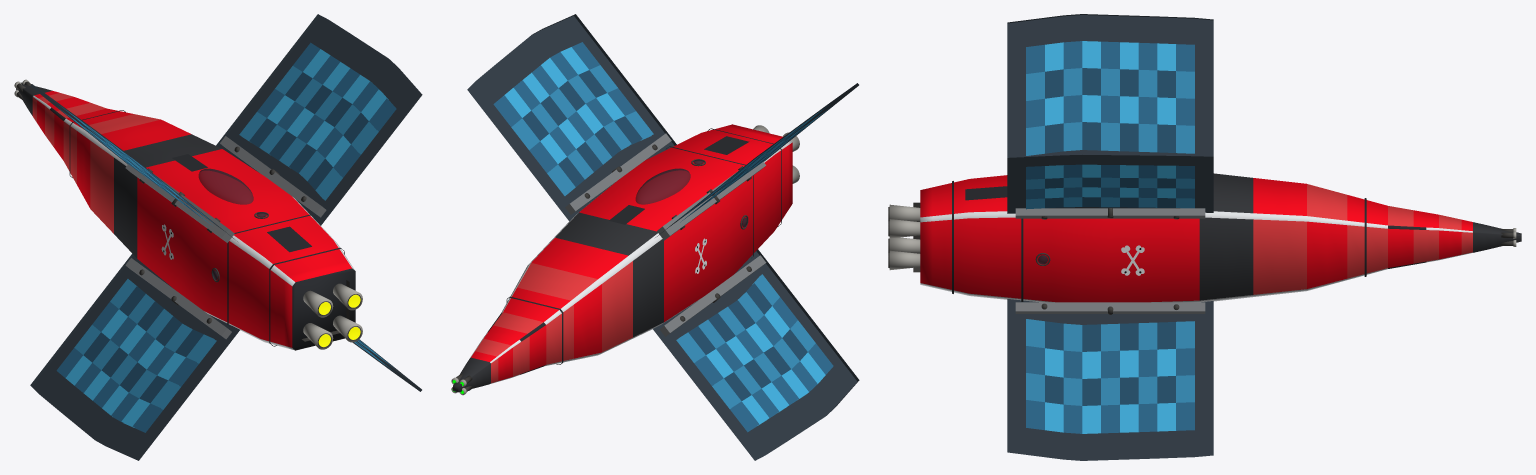
File: Ship_Crosspanel_18.glb
The picture shows the model from 3 angles, left to right: view 1: azimuth 30°, elevation 25°; view 2: azimuth 150°, elevation 25°; view 3: azimuth 270°, elevation 25°; orthographic projection.
Visible parts, largest first — view 1: Fuselage_SquareBody, SolarPanelWing_LowerLeftRidge_RectangularPhotovoltaicGrid, SolarPanelWing_TopRightRidge_RectangularPhotovoltaicGrid, Nose_SquareTaperedForwardSection, SolarPanelWing_TopLeftRidge_RectangularPhotovoltaicGrid, Canopy_DorsalLowSquareBubble, SolarPanelWing_LowerLeftRidge_RootHingeClamp, SolarPanelWing_TopRightRidge_RootHingeClamp, SolarPanelWing_TopLeftRidge_RootHingeClamp, HullAccessPanel_TopAft, EngineEmitter, SolarPanelWing_LowerRightRidge_RectangularPhotovoltaicGrid; view 2: Fuselage_SquareBody, SolarPanelWing_LowerLeftRidge_RectangularPhotovoltaicGrid, SolarPanelWing_TopRightRidge_RectangularPhotovoltaicGrid, Nose_SquareTaperedForwardSection, SolarPanelWing_TopLeftRidge_RectangularPhotovoltaicGrid, Canopy_DorsalLowSquareBubble, SolarPanelWing_LowerLeftRidge_RootHingeClamp, SolarPanelWing_TopRightRidge_RootHingeClamp, SolarPanelWing_TopLeftRidge_RootHingeClamp, HullAccessPanel_TopAft; view 3: Fuselage_SquareBody, SolarPanelWing_LowerRightRidge_RectangularPhotovoltaicGrid, SolarPanelWing_TopLeftRidge_RectangularPhotovoltaicGrid, SolarPanelWing_TopRightRidge_RectangularPhotovoltaicGrid, Nose_SquareTaperedForwardSection, SolarPanelWing_LowerRightRidge_RootHingeClamp, SolarPanelWing_TopRightRidge_RootHingeClamp.
Part boxes in pixels (x1=…): Fuselage_SquareBody: x1=63, y1=108, x2=355, y2=350; SolarPanelWing_LowerLeftRidge_RectangularPhotovoltaicGrid: x1=30, y1=253, x2=239, y2=460; SolarPanelWing_TopRightRidge_RectangularPhotovoltaicGrid: x1=216, y1=14, x2=422, y2=225; Nose_SquareTaperedForwardSection: x1=16, y1=82, x2=106, y2=160; SolarPanelWing_TopLeftRidge_RectangularPhotovoltaicGrid: x1=30, y1=84, x2=237, y2=241; Canopy_DorsalLowSquareBubble: x1=198, y1=168, x2=253, y2=204; SolarPanelWing_LowerLeftRidge_RootHingeClamp: x1=125, y1=258, x2=231, y2=339; SolarPanelWing_TopRightRidge_RootHingeClamp: x1=220, y1=136, x2=326, y2=217; SolarPanelWing_TopLeftRidge_RootHingeClamp: x1=125, y1=164, x2=234, y2=242; HullAccessPanel_TopAft: x1=267, y1=226, x2=311, y2=252; EngineEmitter: x1=318, y1=294, x2=360, y2=347; SolarPanelWing_LowerRightRidge_RectangularPhotovoltaicGrid: x1=353, y1=339, x2=421, y2=391; Fuselage_SquareBody: x1=501, y1=124, x2=792, y2=366; SolarPanelWing_LowerLeftRidge_RectangularPhotovoltaicGrid: x1=653, y1=249, x2=859, y2=460; SolarPanelWing_TopRightRidge_RectangularPhotovoltaicGrid: x1=467, y1=14, x2=676, y2=221; Nose_SquareTaperedForwardSection: x1=453, y1=312, x2=546, y2=392; SolarPanelWing_TopLeftRidge_RectangularPhotovoltaicGrid: x1=655, y1=83, x2=858, y2=237; Canopy_DorsalLowSquareBubble: x1=635, y1=168, x2=690, y2=204; SolarPanelWing_LowerLeftRidge_RootHingeClamp: x1=660, y1=255, x2=766, y2=336; SolarPanelWing_TopRightRidge_RootHingeClamp: x1=565, y1=133, x2=671, y2=214; SolarPanelWing_TopLeftRidge_RootHingeClamp: x1=657, y1=161, x2=765, y2=240; HullAccessPanel_TopAft: x1=704, y1=136, x2=749, y2=154; Fuselage_SquareBody: x1=920, y1=173, x2=1387, y2=302; SolarPanelWing_LowerRightRidge_RectangularPhotovoltaicGrid: x1=1007, y1=299, x2=1213, y2=460; SolarPanelWing_TopLeftRidge_RectangularPhotovoltaicGrid: x1=1007, y1=14, x2=1213, y2=157; SolarPanelWing_TopRightRidge_RectangularPhotovoltaicGrid: x1=1007, y1=155, x2=1213, y2=213; Nose_SquareTaperedForwardSection: x1=1388, y1=206, x2=1521, y2=268; SolarPanelWing_LowerRightRidge_RootHingeClamp: x1=1015, y1=302, x2=1205, y2=313; SolarPanelWing_TopRightRidge_RootHingeClamp: x1=1015, y1=208, x2=1205, y2=218.
Size of the model in its own units: 4.64 by 4.64 by 8.7.
